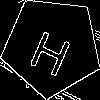H: (26, 21, 77, 78)
